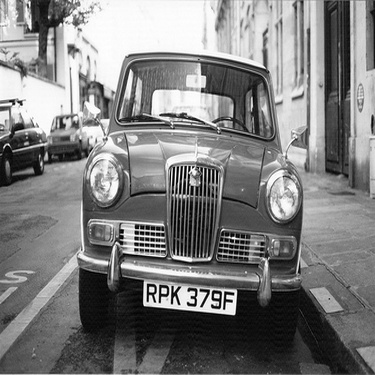car: (61, 44, 314, 300), (1, 91, 59, 171), (40, 98, 102, 152)
